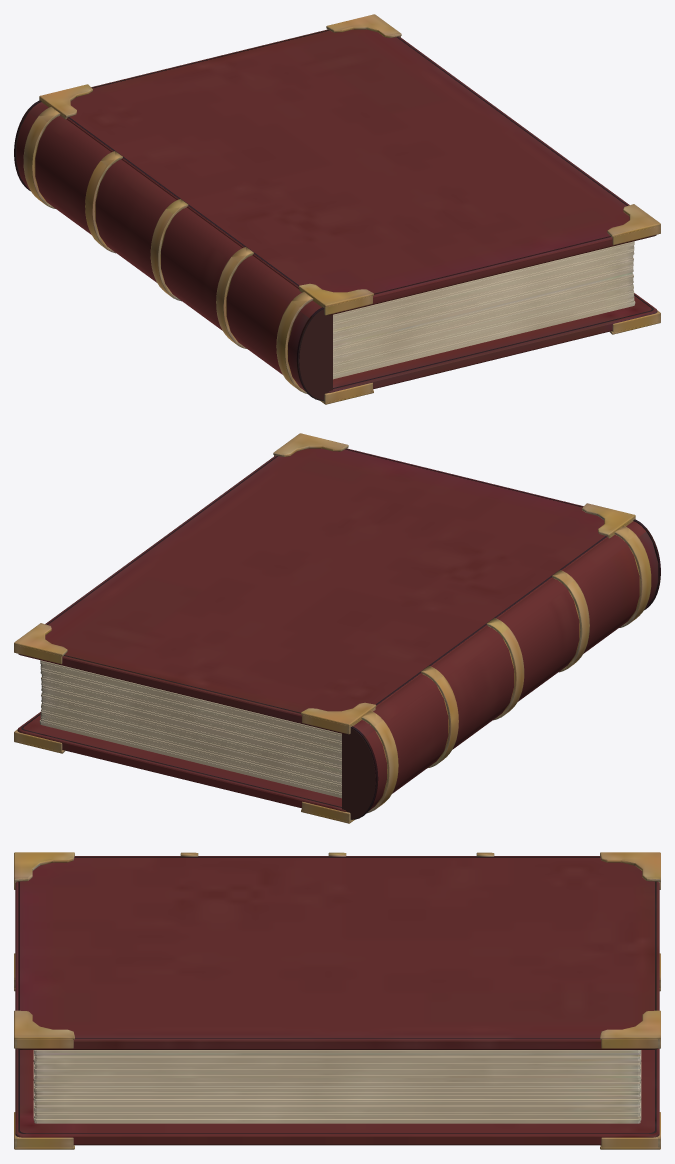
File: book_closed.glb
3 renders of one model, top to bottom at view 1: azimuth 30°, elevation 25°; view 2: azimuth 150°, elevation 25°; view 3: azimuth 270°, elevation 25°, orthographic. The views are drawn at different scales.
Parts seen in each view (by area): view 1: ClosedBook_Surfaces, ClosedBook_Leather_Binding_End_Tail; view 2: ClosedBook_Surfaces, ClosedBook_Leather_Binding_End_Head; view 3: ClosedBook_Surfaces.
Part boxes in pixels (x1,y1,x2,y2): ClosedBook_Surfaces: [14, 14, 660, 404]; ClosedBook_Leather_Binding_End_Tail: [299, 309, 332, 399]; ClosedBook_Surfaces: [14, 433, 660, 823]; ClosedBook_Leather_Binding_End_Head: [342, 728, 375, 818]; ClosedBook_Surfaces: [14, 852, 660, 1149].
Bounding box in the file's own units: 0.324 × 0.085 × 0.4416.
Materials: 2 (1 with a texture image).
